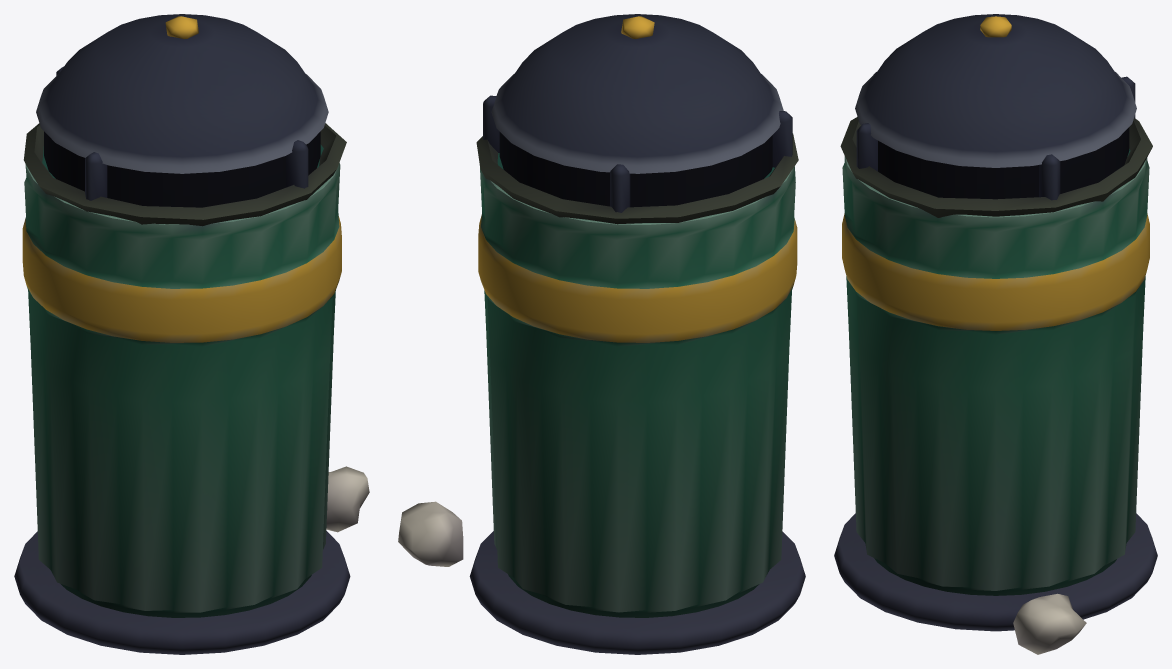
File: poubelle.glb
The picture shows the model from 3 angles, left to right: view 1: azimuth 30°, elevation 25°; view 2: azimuth 150°, elevation 25°; view 3: azimuth 270°, elevation 25°; orthographic projection. The views are drawn at different scales.
Parts seen in each view (by area): view 1: poubelle; view 2: poubelle; view 3: poubelle.
Boxes of the visible parts, box(x1,y1,x2,y2) form: poubelle: box(14, 14, 369, 654); poubelle: box(398, 14, 805, 654); poubelle: box(834, 14, 1157, 654).
Size of the model in its own units: 0.7546 by 1.16 by 0.62.
